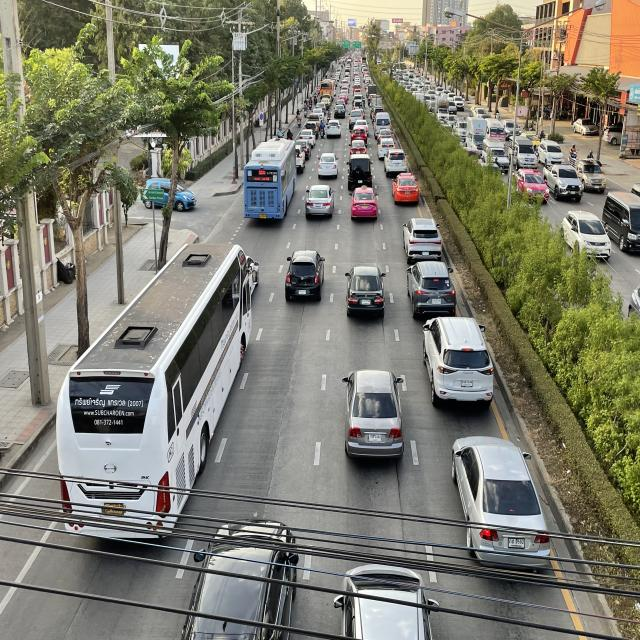bus: (50, 235, 253, 546), (242, 134, 299, 226)
car: (450, 426, 552, 578), (342, 357, 408, 466), (340, 258, 390, 322), (282, 243, 327, 310)
